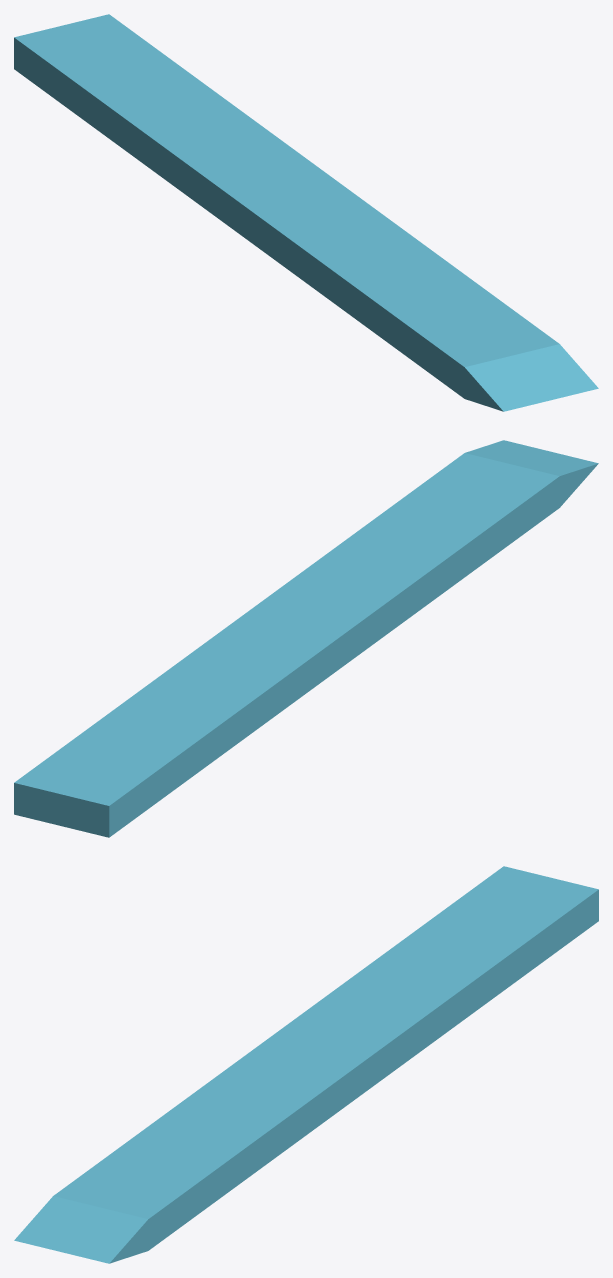
The model's file is blade-broad.glb.
3 renders of one model, top to bottom at view 1: azimuth 30°, elevation 25°; view 2: azimuth 150°, elevation 25°; view 3: azimuth 330°, elevation 25°, orthographic.
Visible parts, largest first — view 1: m; view 2: m; view 3: m.
Part boxes in pixels (<box>): m: <box>14,14,598,411</box>; m: <box>14,440,598,837</box>; m: <box>14,866,598,1263</box>.
Bounding box in the file's own units: 0.022 × 0.00701 × 0.196.
